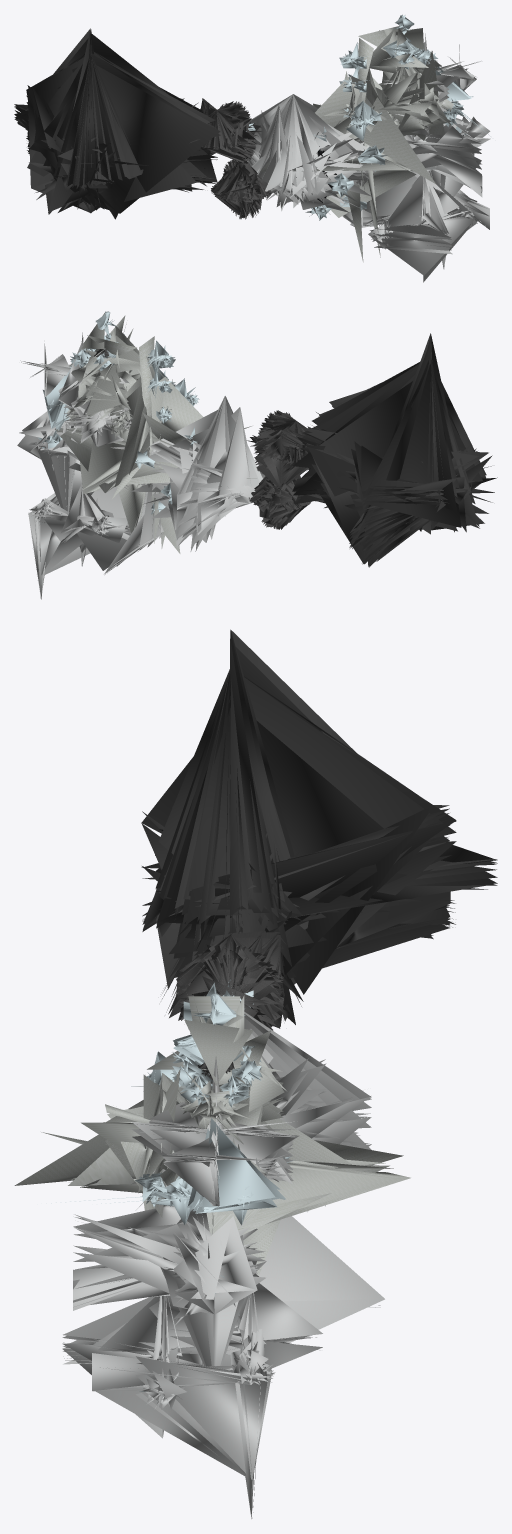
File: index.gltf
3 renders of one model, top to bottom at view 1: azimuth 30°, elevation 25°; view 2: azimuth 150°, elevation 25°; view 3: azimuth 270°, elevation 25°, orthographic. The views are drawn at different scales.
Visible parts, largest first — view 1: 1ACM44000300, Cylinder171, 28B8EBFAA26CBEBCC2FE826A35317BFAB5E7CF17|:|1F88DD08FF08E3A7D, Cylinder167, 28B8EBFAA26CBEBCC2FE826A35317BFAB5E7CF17|:|3B4C20FEF11B22B42, 28B8EBFAA26CBEBCC2FE826A35317BFAB5E7CF17|:|679AE0246F49E3E9C, Cylinder148, 28B8EBFAA26CBEBCC2FE826A35317BFAB5E7CF17|:|B1A7658102746E420, Cylinder145, Cylinder149, Cylinder164, Cylinder147 (+8 smaller); view 2: 1ACM44000300, 28B8EBFAA26CBEBCC2FE826A35317BFAB5E7CF17|:|1F88DD08FF08E3A7D, Cylinder171, Cylinder149, Cylinder148, 28B8EBFAA26CBEBCC2FE826A35317BFAB5E7CF17|:|B1A7658102746E420, Cylinder167, 28B8EBFAA26CBEBCC2FE826A35317BFAB5E7CF17|:|679AE0246F49E3E9C, Cylinder165, 28B8EBFAA26CBEBCC2FE826A35317BFAB5E7CF17|:|E5C87468F25A45430, Cylinder164, Cylinder147 (+4 smaller); view 3: 1ACM44000300, Cylinder149, 28B8EBFAA26CBEBCC2FE826A35317BFAB5E7CF17|:|1F88DD08FF08E3A7D, Cylinder167, Cylinder148, Cylinder171, Cylinder164, Cylinder147, Cylinder165, 28B8EBFAA26CBEBCC2FE826A35317BFAB5E7CF17|:|3B4C20FEF11B22B42, Cylinder166, 28B8EBFAA26CBEBCC2FE826A35317BFAB5E7CF17|:|679AE0246F49E3E9C (+8 smaller).
Part boxes in pixels (x1=…): 1ACM44000300: x1=14, y1=28, x2=476, y2=275; Cylinder171: x1=249, y1=94, x2=371, y2=217; 28B8EBFAA26CBEBCC2FE826A35317BFAB5E7CF17|:|1F88DD08FF08E3A7D: x1=260, y1=38, x2=435, y2=262; Cylinder167: x1=406, y1=123, x2=482, y2=197; 28B8EBFAA26CBEBCC2FE826A35317BFAB5E7CF17|:|3B4C20FEF11B22B42: x1=379, y1=51, x2=451, y2=136; 28B8EBFAA26CBEBCC2FE826A35317BFAB5E7CF17|:|679AE0246F49E3E9C: x1=358, y1=26, x2=428, y2=82; Cylinder148: x1=342, y1=176, x2=417, y2=227; 28B8EBFAA26CBEBCC2FE826A35317BFAB5E7CF17|:|B1A7658102746E420: x1=379, y1=67, x2=453, y2=140; Cylinder145: x1=417, y1=186, x2=464, y2=234; Cylinder149: x1=442, y1=190, x2=489, y2=269; Cylinder164: x1=452, y1=116, x2=490, y2=156; Cylinder147: x1=381, y1=33, x2=468, y2=102; 1ACM44000300: x1=29, y1=333, x2=497, y2=567; 28B8EBFAA26CBEBCC2FE826A35317BFAB5E7CF17|:|1F88DD08FF08E3A7D: x1=55, y1=336, x2=256, y2=553; Cylinder171: x1=131, y1=396, x2=265, y2=551; Cylinder149: x1=28, y1=493, x2=130, y2=599; Cylinder148: x1=77, y1=486, x2=163, y2=574; 28B8EBFAA26CBEBCC2FE826A35317BFAB5E7CF17|:|B1A7658102746E420: x1=55, y1=364, x2=136, y2=441; Cylinder167: x1=35, y1=419, x2=130, y2=512; 28B8EBFAA26CBEBCC2FE826A35317BFAB5E7CF17|:|679AE0246F49E3E9C: x1=82, y1=313, x2=151, y2=381; Cylinder165: x1=44, y1=483, x2=129, y2=566; 28B8EBFAA26CBEBCC2FE826A35317BFAB5E7CF17|:|E5C87468F25A45430: x1=64, y1=397, x2=129, y2=446; Cylinder164: x1=17, y1=411, x2=69, y2=470; Cylinder147: x1=40, y1=332, x2=129, y2=408; 1ACM44000300: x1=62, y1=629, x2=497, y2=1438; Cylinder149: x1=92, y1=1316, x2=275, y2=1518; 28B8EBFAA26CBEBCC2FE826A35317BFAB5E7CF17|:|1F88DD08FF08E3A7D: x1=14, y1=992, x2=410, y2=1275; Cylinder167: x1=73, y1=1205, x2=266, y2=1366; Cylinder148: x1=202, y1=1216, x2=384, y2=1366; Cylinder171: x1=135, y1=994, x2=371, y2=1211; Cylinder164: x1=163, y1=1216, x2=266, y2=1326; Cylinder147: x1=132, y1=1056, x2=299, y2=1166; Cylinder165: x1=170, y1=1283, x2=322, y2=1368; 28B8EBFAA26CBEBCC2FE826A35317BFAB5E7CF17|:|3B4C20FEF11B22B42: x1=81, y1=1068, x2=190, y2=1217; Cylinder166: x1=187, y1=1118, x2=285, y2=1213; 28B8EBFAA26CBEBCC2FE826A35317BFAB5E7CF17|:|679AE0246F49E3E9C: x1=147, y1=995, x2=282, y2=1085.
Size of the model in its own units: 502 by 368 by 277.
Materials: 7 (7 with a texture image).
